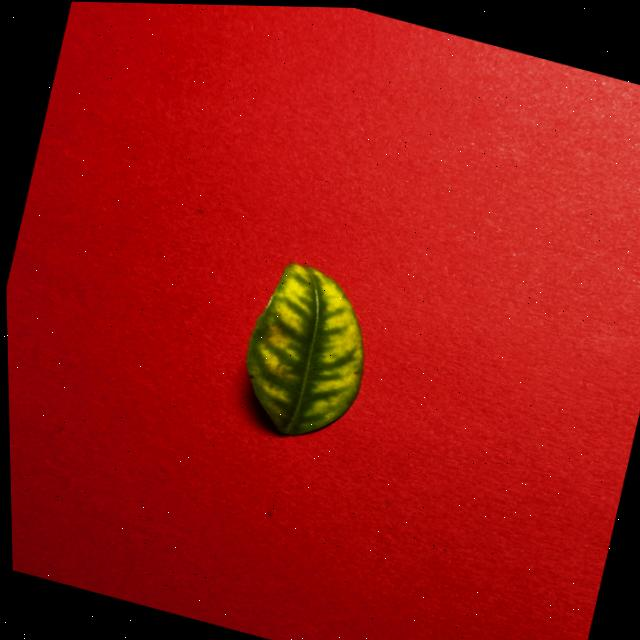greening: (245, 261, 362, 434)
